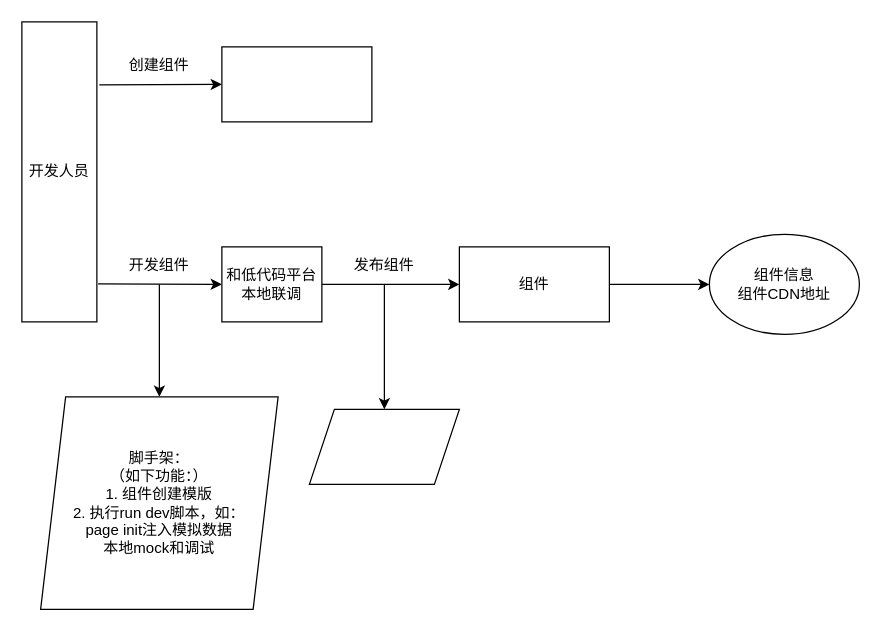
Image size: 881x631. Some labels were removed from this diagram. The shapes that lost their labels are listed below. From the top down, each one's box as (x1, y1, x2, y2) in pixels, then its label:
(221, 46, 372, 122): 提供组件模版
(308, 408, 459, 484): npm publish 发布到低代码平台
